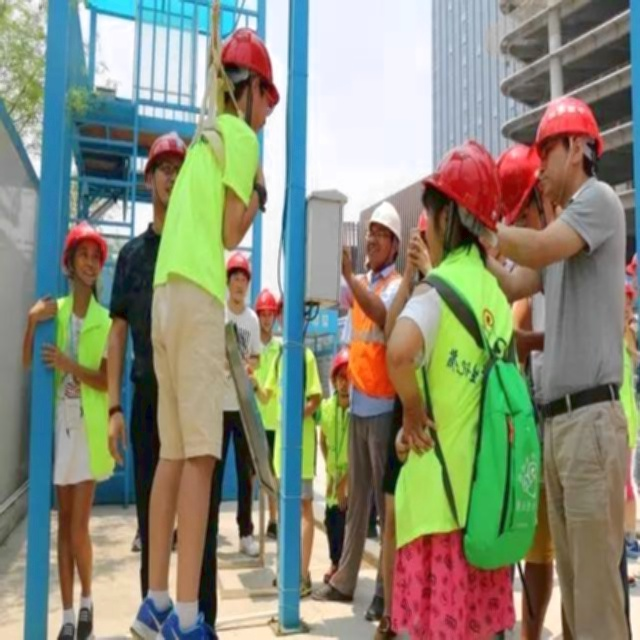Con_Casco: (537, 96, 598, 200), (63, 222, 106, 298)
